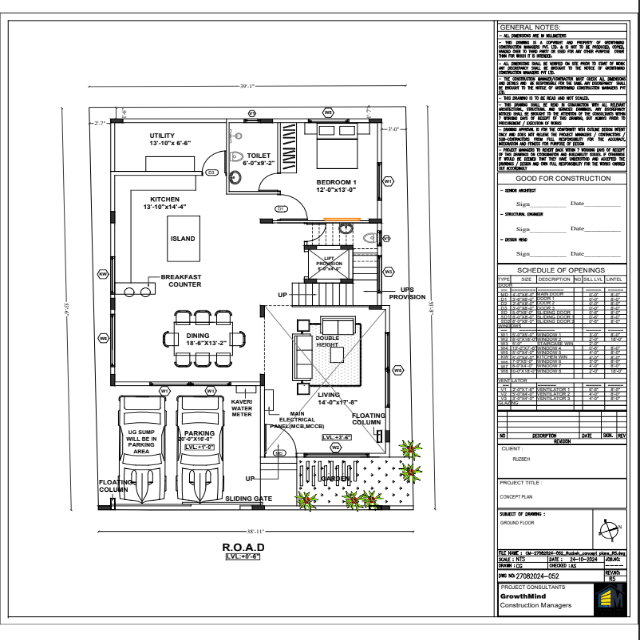door: (264, 423, 298, 456), (278, 193, 309, 220), (201, 149, 227, 174), (257, 171, 280, 192), (305, 222, 327, 242)
